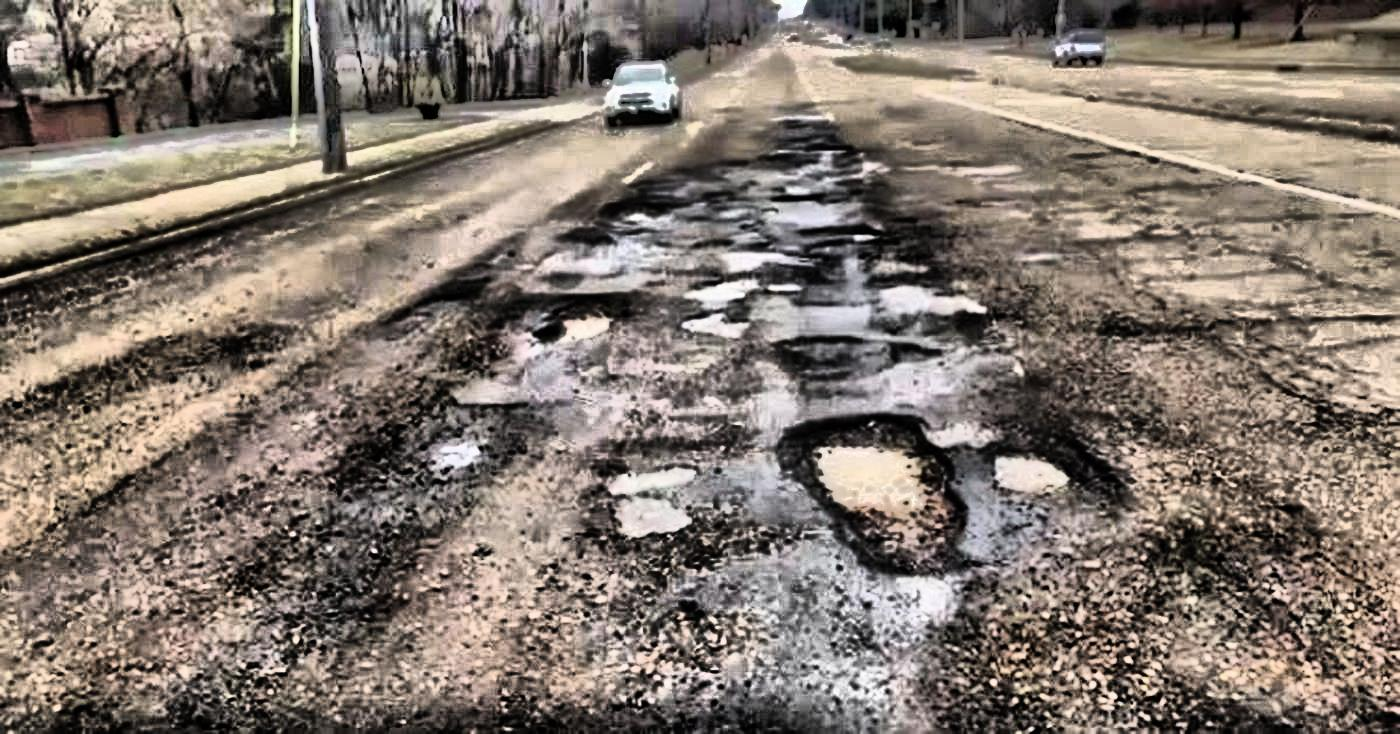pothole: (796, 406, 968, 560), (779, 325, 920, 387), (532, 284, 644, 359), (994, 444, 1064, 504), (794, 219, 890, 260), (684, 270, 767, 306), (601, 192, 664, 233)
